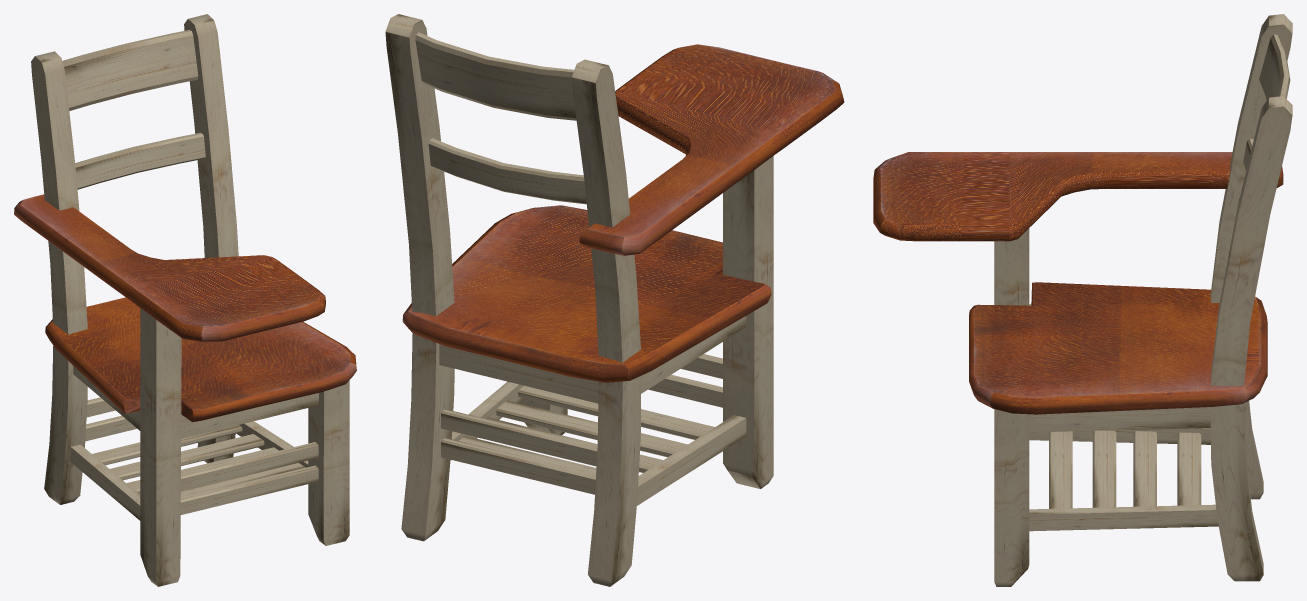
File: Desk.fbx
3 views of the same model, side by side, from view 1: azimuth 30°, elevation 25°; view 2: azimuth 150°, elevation 25°; view 3: azimuth 270°, elevation 25° (orthographic). The views are drawn at different scales.
Visible parts, largest first — view 1: polySurface28; view 2: polySurface28; view 3: polySurface28.
Part boxes in pixels (x1,y1,x2,y2): polySurface28: (14,14,356,586); polySurface28: (385,14,844,586); polySurface28: (873,14,1292,586).
Bounding box in the file's own units: 1.04 × 1.9 × 1.51.
Materials: 2 (2 with a texture image).
